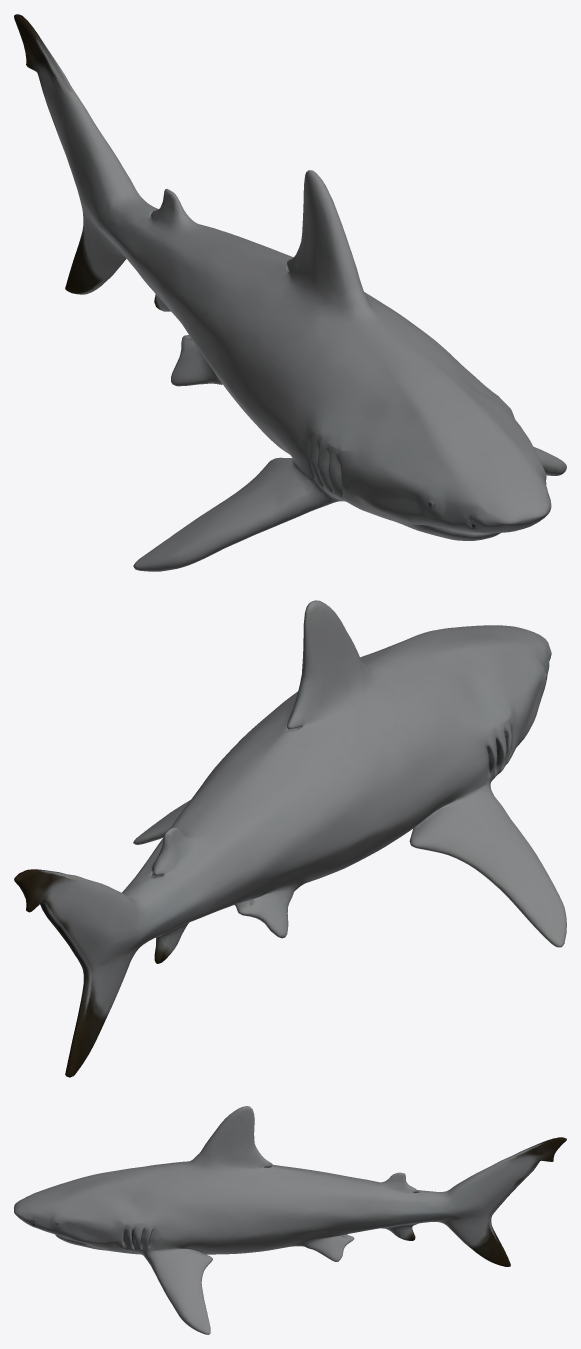
The model's file is shark.glb.
3 renders of one model, top to bottom at view 1: azimuth 30°, elevation 25°; view 2: azimuth 150°, elevation 25°; view 3: azimuth 270°, elevation 25°, orthographic. The views are drawn at different scales.
Visible parts, largest first — view 1: tripo_node_8702de99-c445-483e-bf6d-64bdfc52c809; view 2: tripo_node_8702de99-c445-483e-bf6d-64bdfc52c809; view 3: tripo_node_8702de99-c445-483e-bf6d-64bdfc52c809.
Boxes of the visible parts, bbox=[...] form: tripo_node_8702de99-c445-483e-bf6d-64bdfc52c809: bbox=[14, 14, 566, 571]; tripo_node_8702de99-c445-483e-bf6d-64bdfc52c809: bbox=[14, 600, 566, 1077]; tripo_node_8702de99-c445-483e-bf6d-64bdfc52c809: bbox=[14, 1106, 566, 1334].
Size of the model in its own units: 0.4828 by 0.3447 by 1.
1 material, 1 textured.
